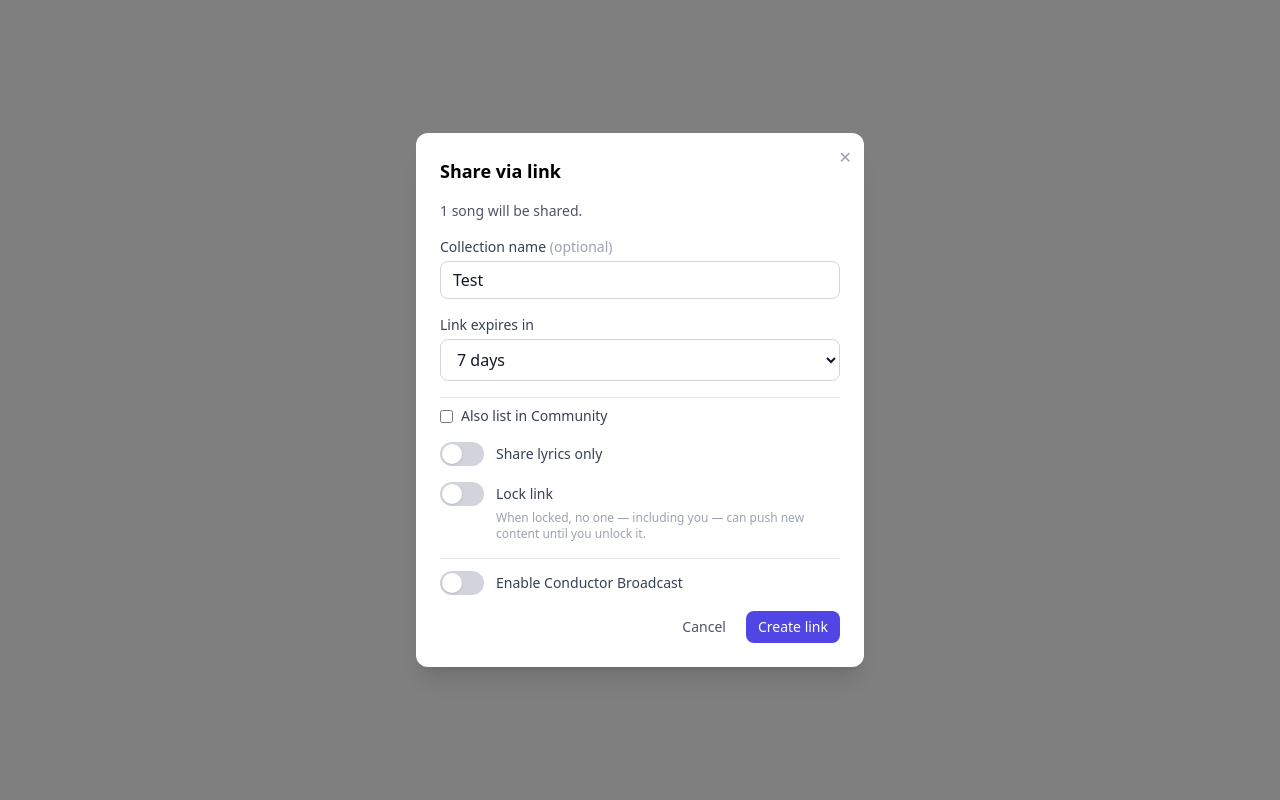
Test: ShareModal conductor section › shows max followers input when toggle is on
Click the switch labelled "Enable Conductor Broadcast": (640, 583) x1=440 y1=571 x2=840 y2=595
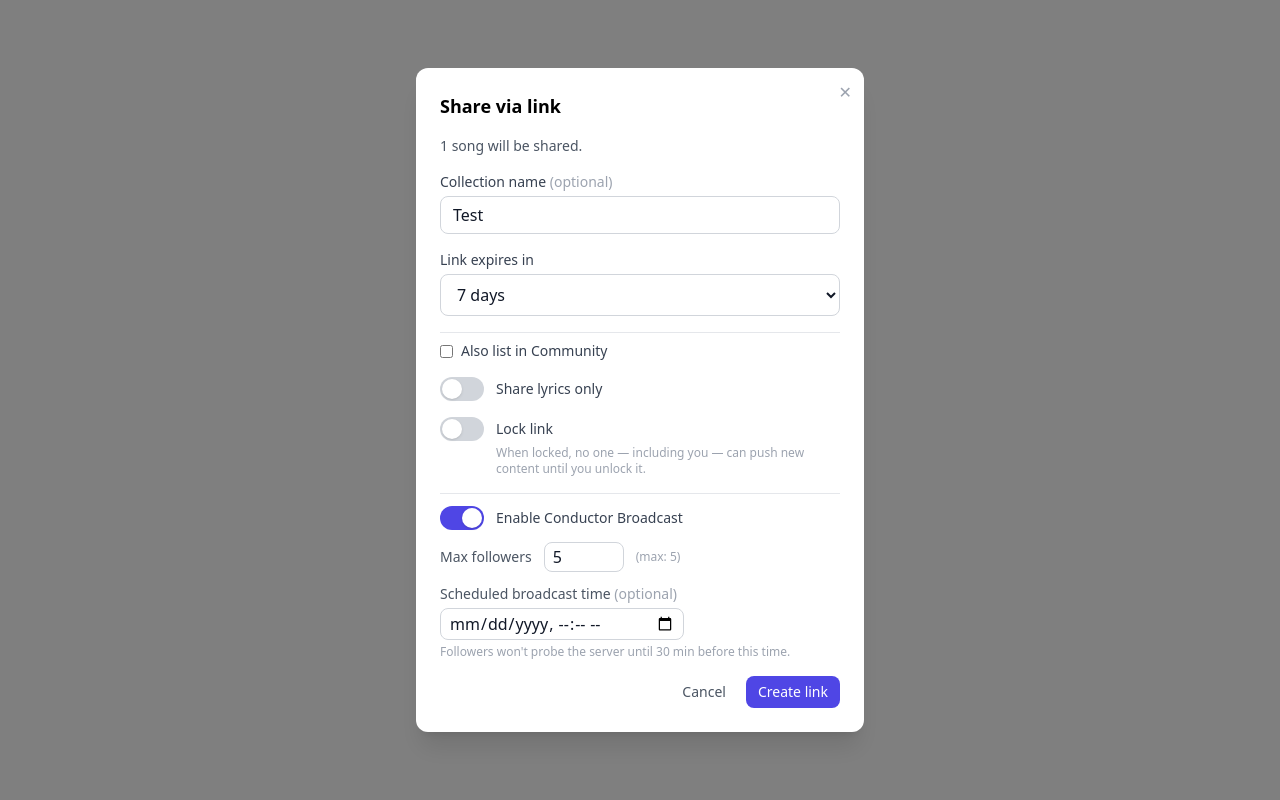
Expected: the number field labelled "Max followers" is shown, x1=544 y1=542 x2=624 y2=572
